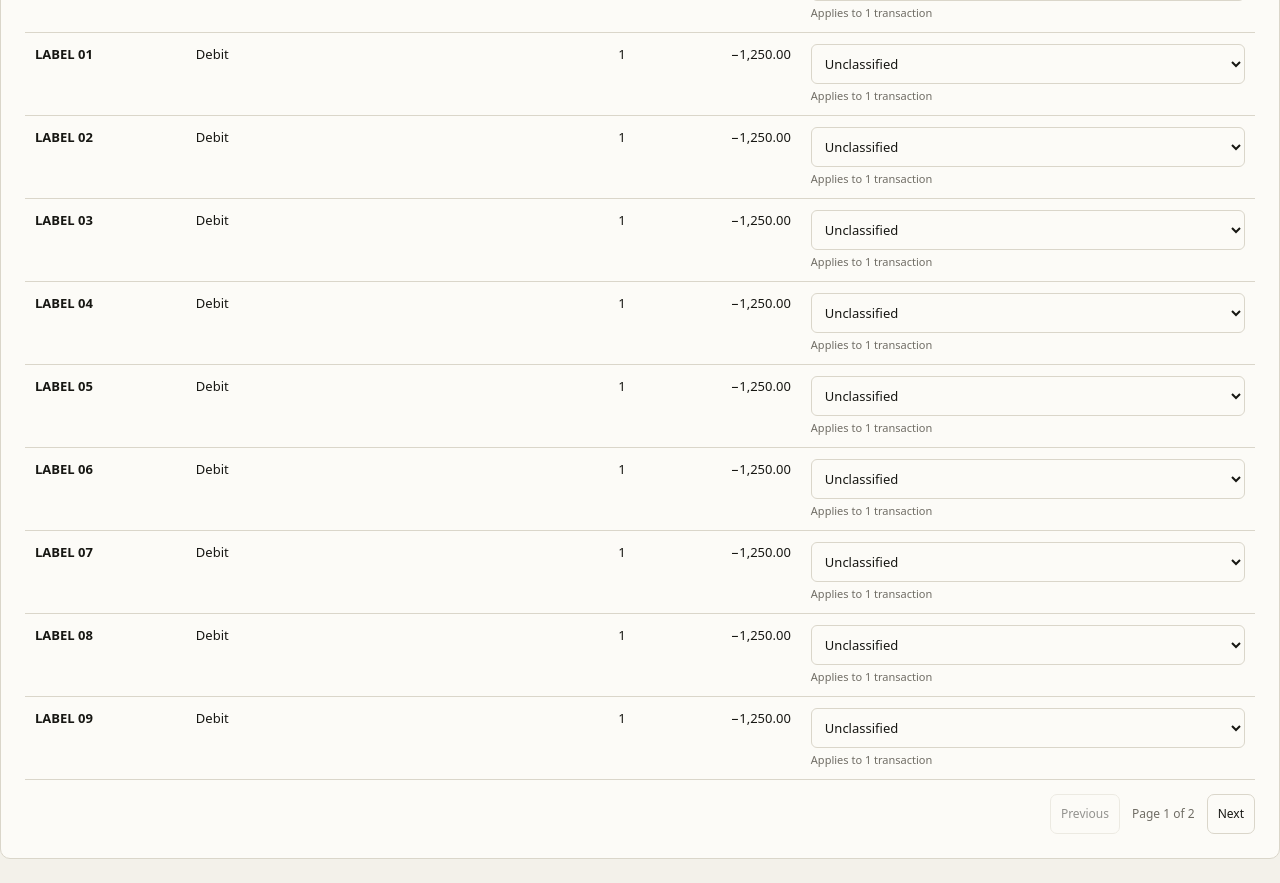
Scenario: transaction category controls › returns to page one when the order changes
The image size is (1280, 883).
(page scrolled)
Click the button "Next". click: (1231, 814)
box: [1207, 794, 1255, 834]
(page scrolled)
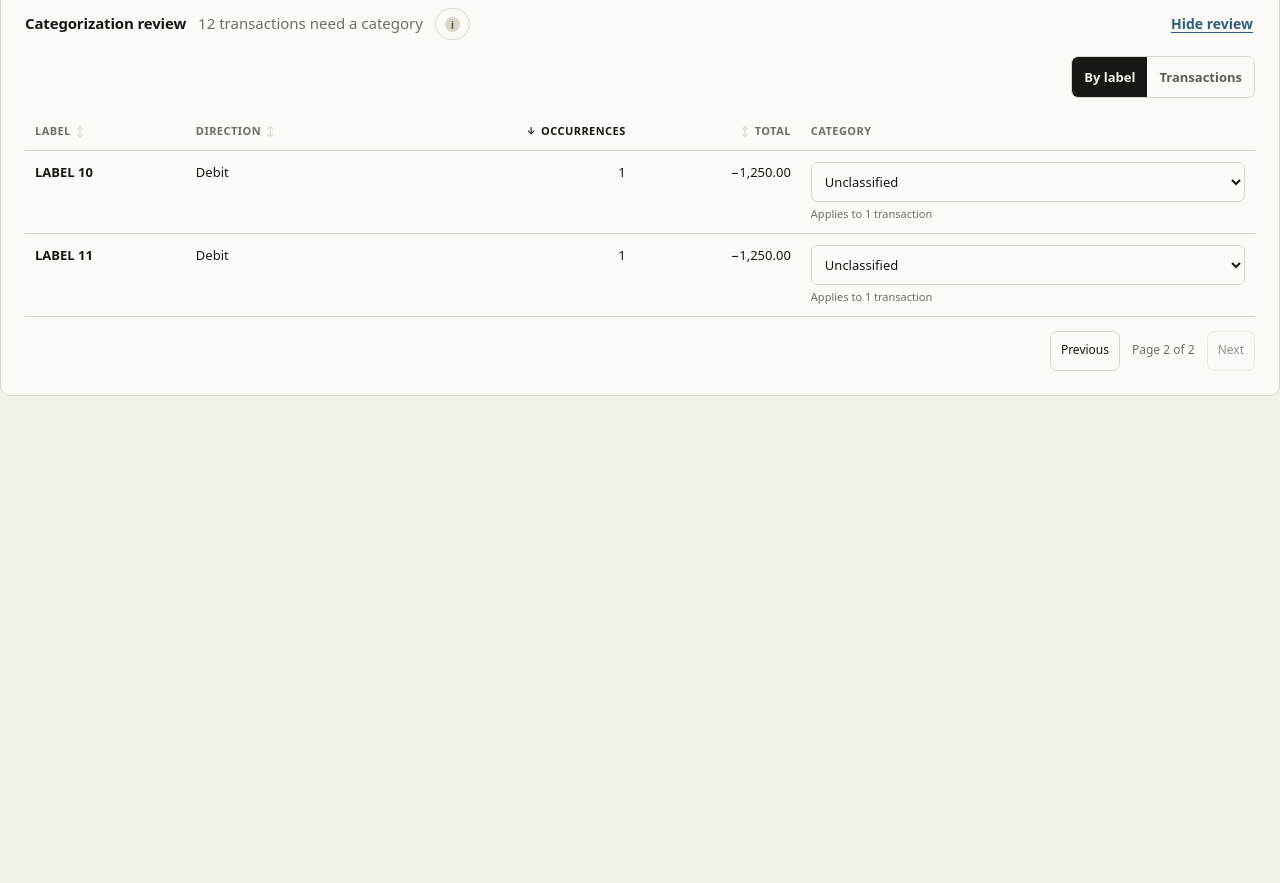
Check: the text "Page 2 of 2" is shown, box [1132, 341, 1195, 360]
Note: Page 2 of the old order holds unrelated rows in the new one.
Click the button "Total ↕". click: (766, 131)
box: [741, 122, 791, 140]
(page scrolled)
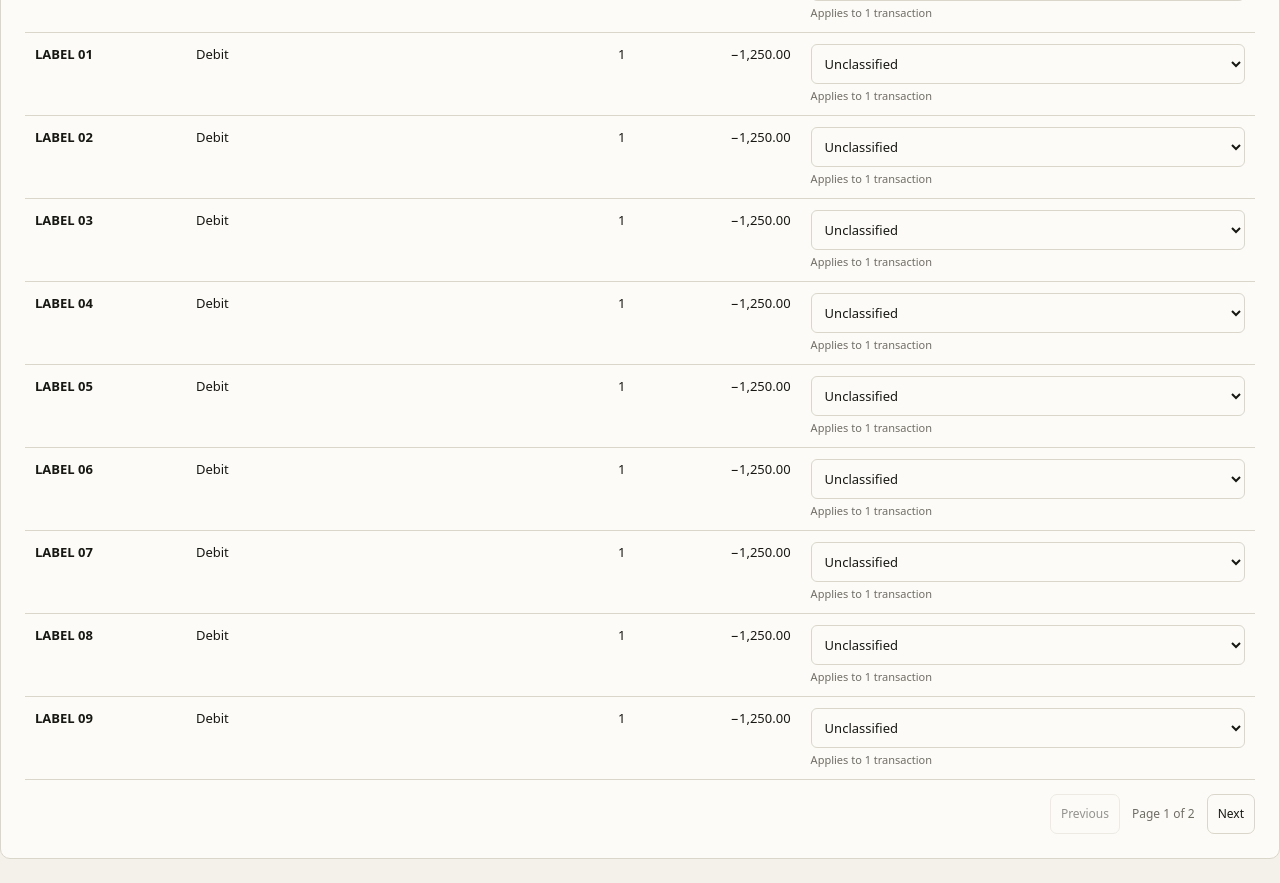
Check: the text "Page 1 of 2" is shown, box [1132, 805, 1195, 823]
